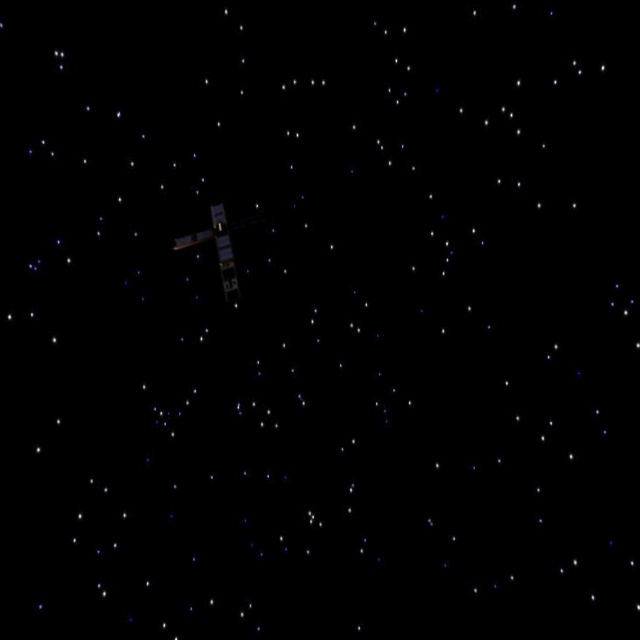medium_debris: (166, 190, 268, 314)
